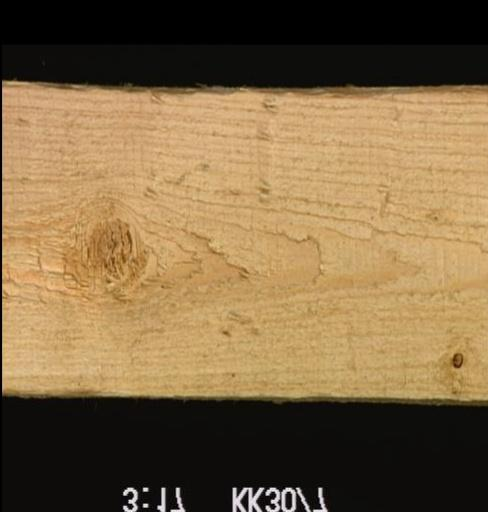dry_knot: (447, 347, 465, 370)
small_knot: (428, 209, 445, 230)
sound_knot: (72, 198, 151, 302)
wave: (4, 378, 128, 408)
